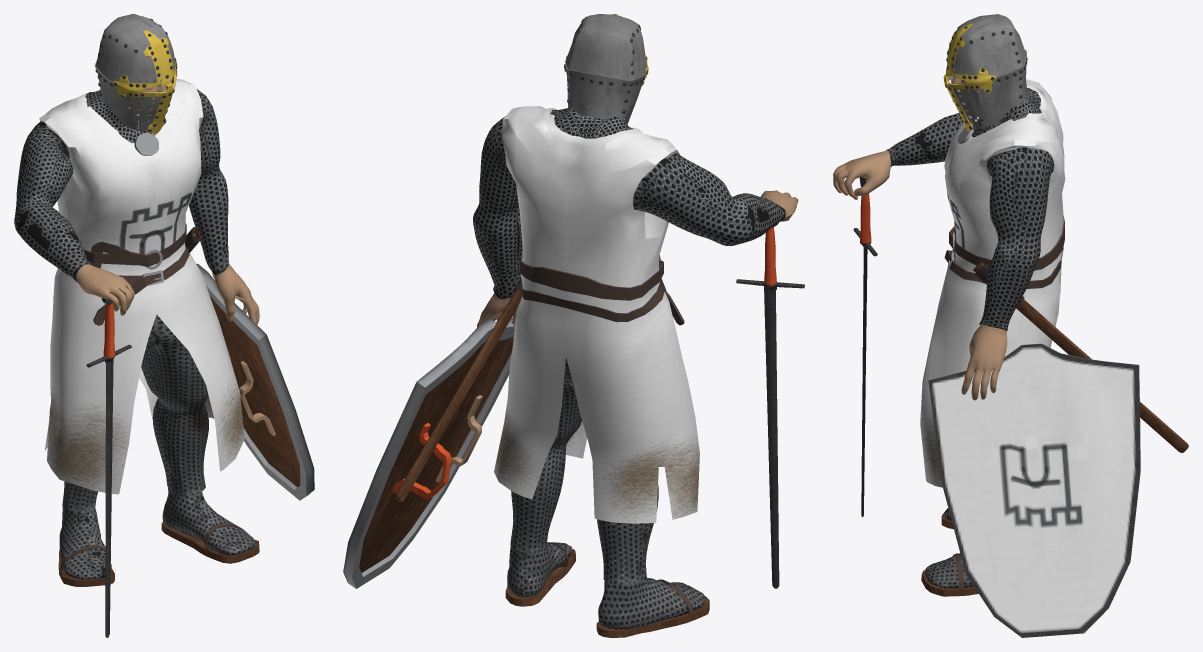
The model's file is ashstone.glb.
3 views of the same model, side by side, from view 1: azimuth 30°, elevation 25°; view 2: azimuth 150°, elevation 25°; view 3: azimuth 270°, elevation 25° (orthographic). The views are drawn at different scales.
Parts seen in each view (by area): view 1: ASH3D_Object_6, ASH3D_Object001_templar_0, ASH3D_Object004_templar_0; view 2: ASH3D_Object_6, ASH3D_Object001_templar_0, ASH3D_Object004_templar_0; view 3: ASH3D_Object001_templar_0, ASH3D_Object_6, ASH3D_Object004_templar_0.
Boxes of the visible parts, x1,y1,x2,y2 form: ASH3D_Object_6: (14,14,259,586); ASH3D_Object001_templar_0: (196,263,314,500); ASH3D_Object004_templar_0: (86,296,131,637); ASH3D_Object_6: (395,14,798,637); ASH3D_Object001_templar_0: (343,317,514,588); ASH3D_Object004_templar_0: (736,222,804,588); ASH3D_Object001_templar_0: (928,343,1140,637); ASH3D_Object_6: (833,14,1188,596); ASH3D_Object004_templar_0: (853,177,877,517).
Size of the model in its own units: 1.1 by 1.82 by 1.08.
Materials: 1 (1 with a texture image).
